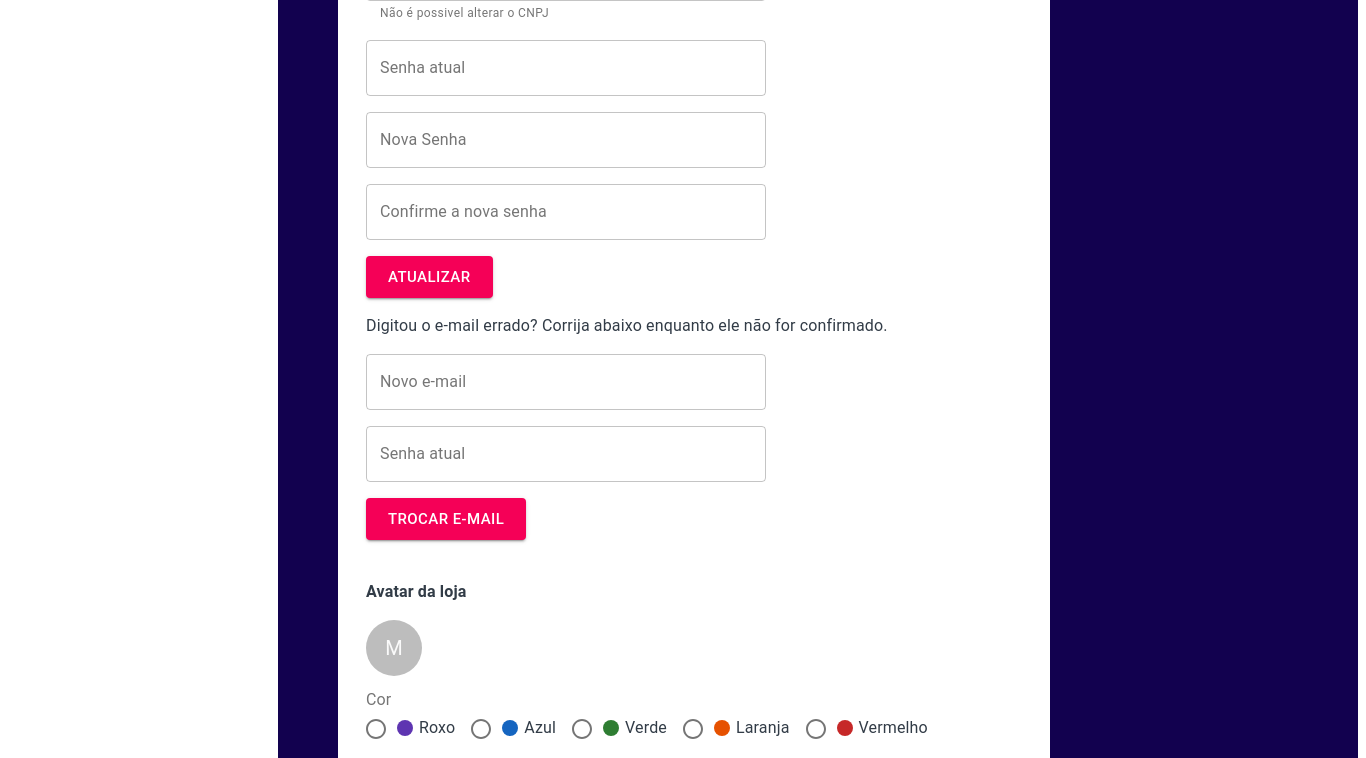
Test: E-mail da conta no Perfil › corrigir o e-mail: envia token, e-mail e senha, aplica a conta nova e esvazia os campos
The width and height of the screenshot is (1366, 758).
(page scrolled)
Type "certo@modaazul.com" into the field labelled "Novo e-mail" at [566, 382], box [366,354,766,410]
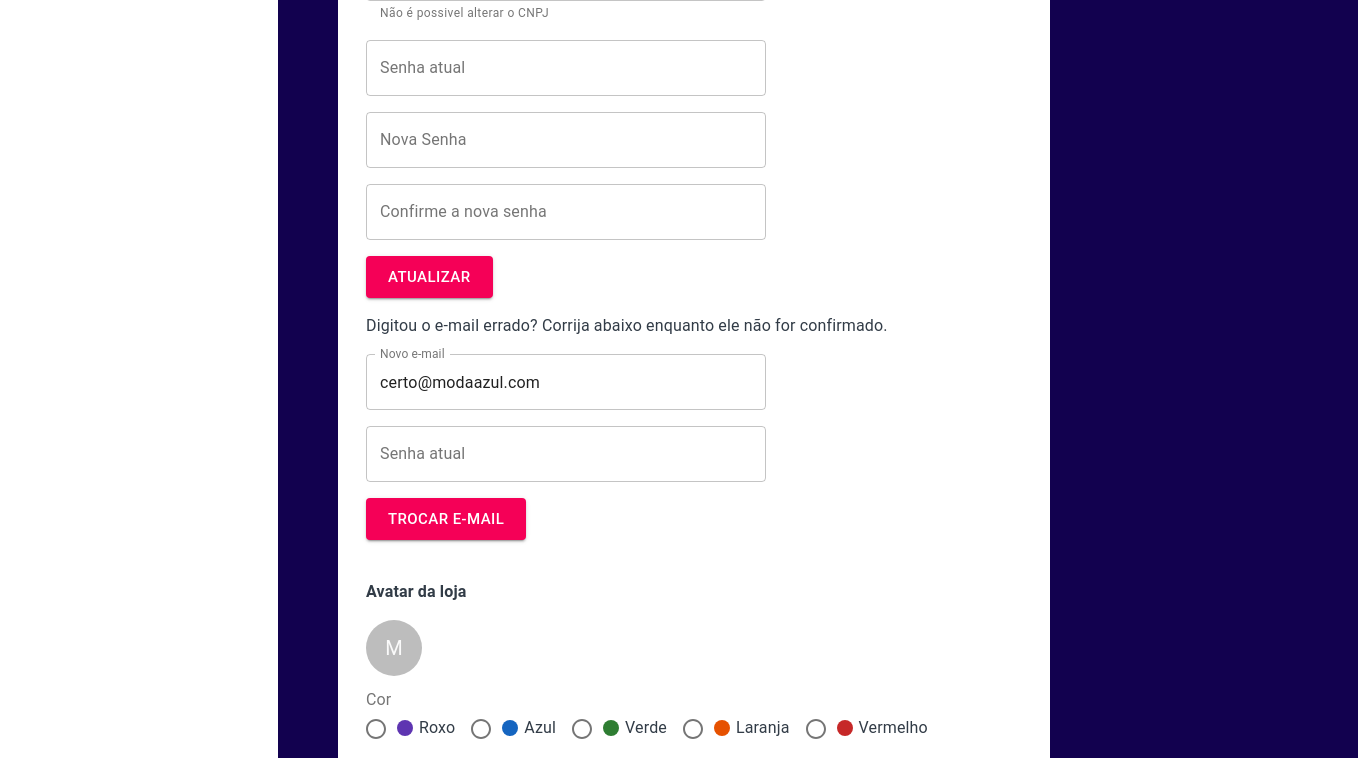
Type "senha-atual-1" into the password field labelled "Senha atual" below "Novo e-mail" at [566, 454], box [366,426,766,482]
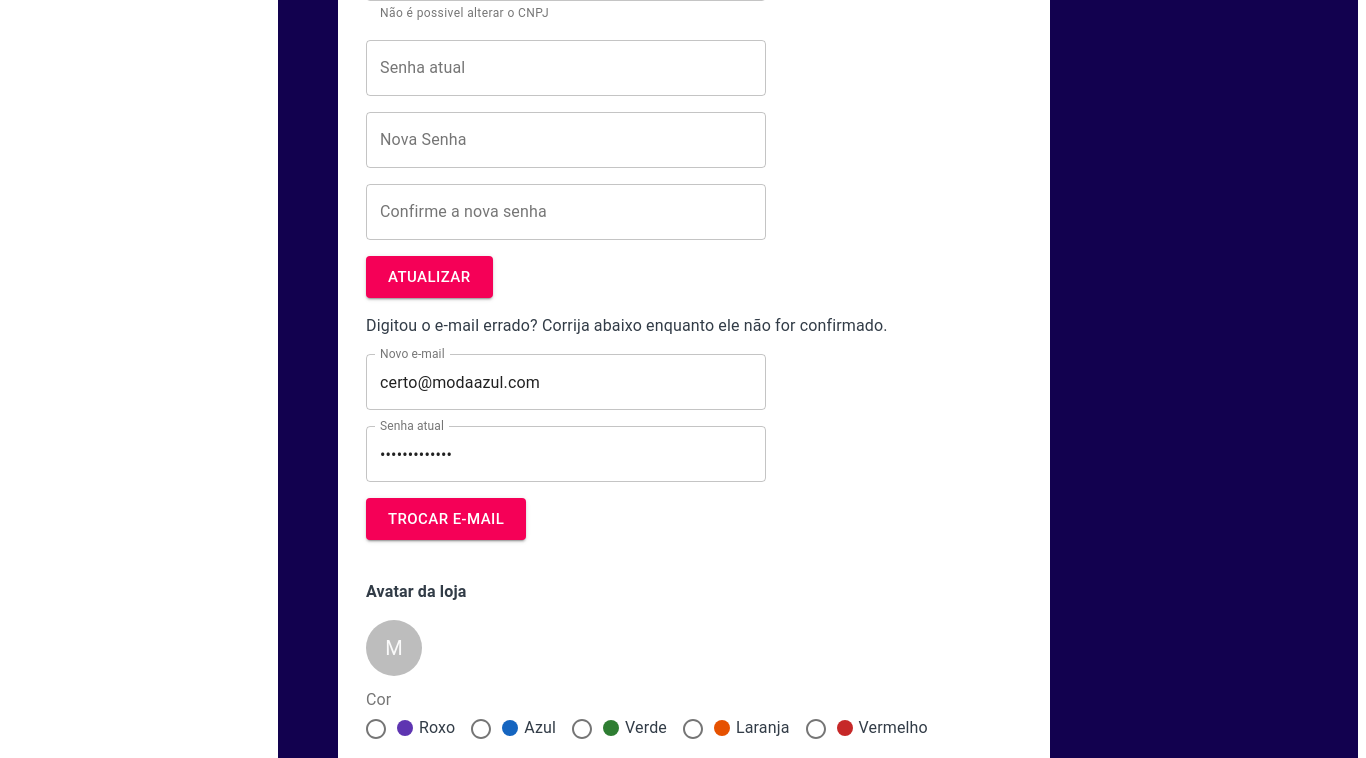
Submit the form named "Trocar e-mail", box [366,316,888,540]
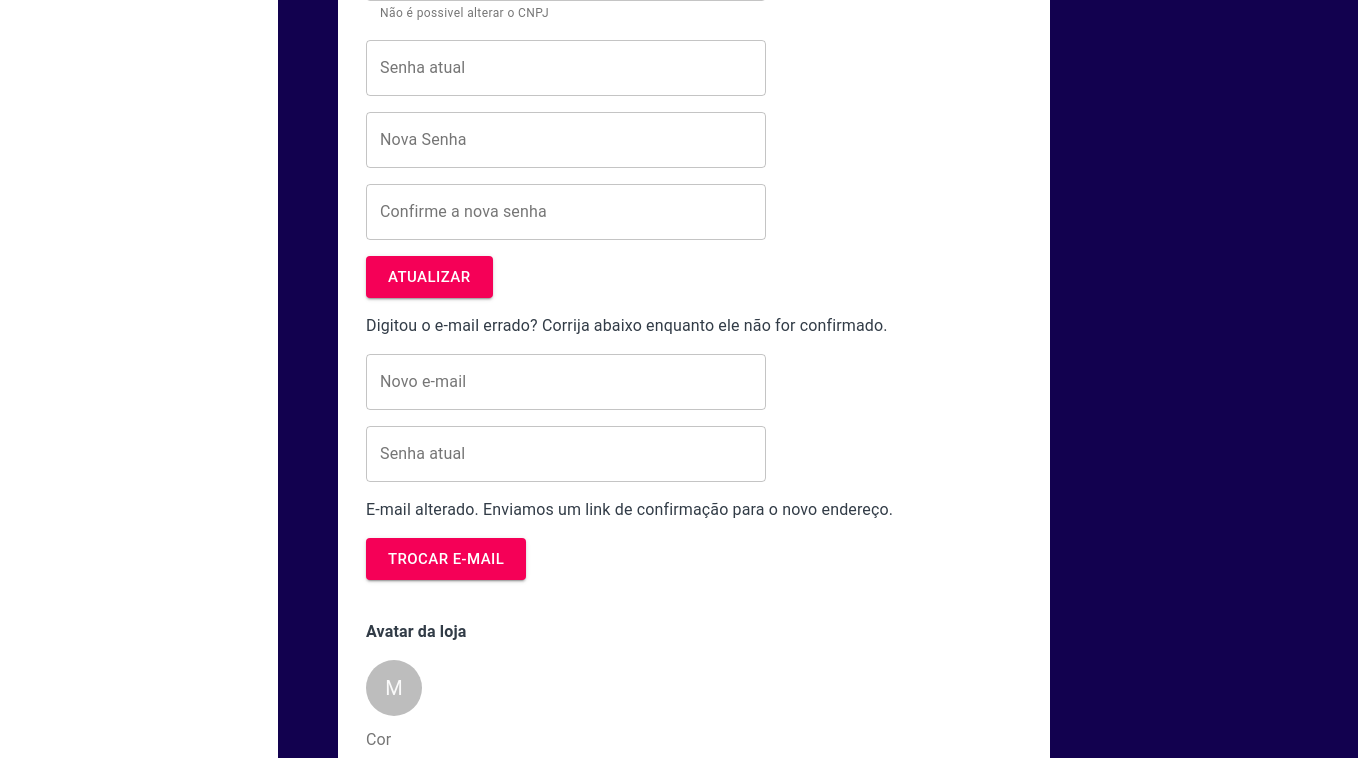
Expected: the text "E-mail alterado. Enviamos um link de confirmação para o novo endereço." is shown, [366,500,893,519]
Expected: the field labelled "Novo e-mail" is empty, [366,354,766,410]
Expected: the password field labelled "Senha atual" below "Novo e-mail" is empty, [366,426,766,482]
